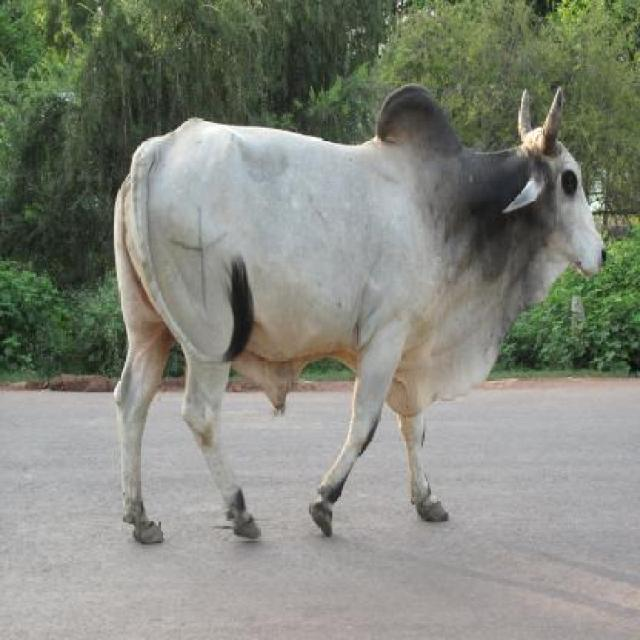Cow: (111, 78, 614, 556)
